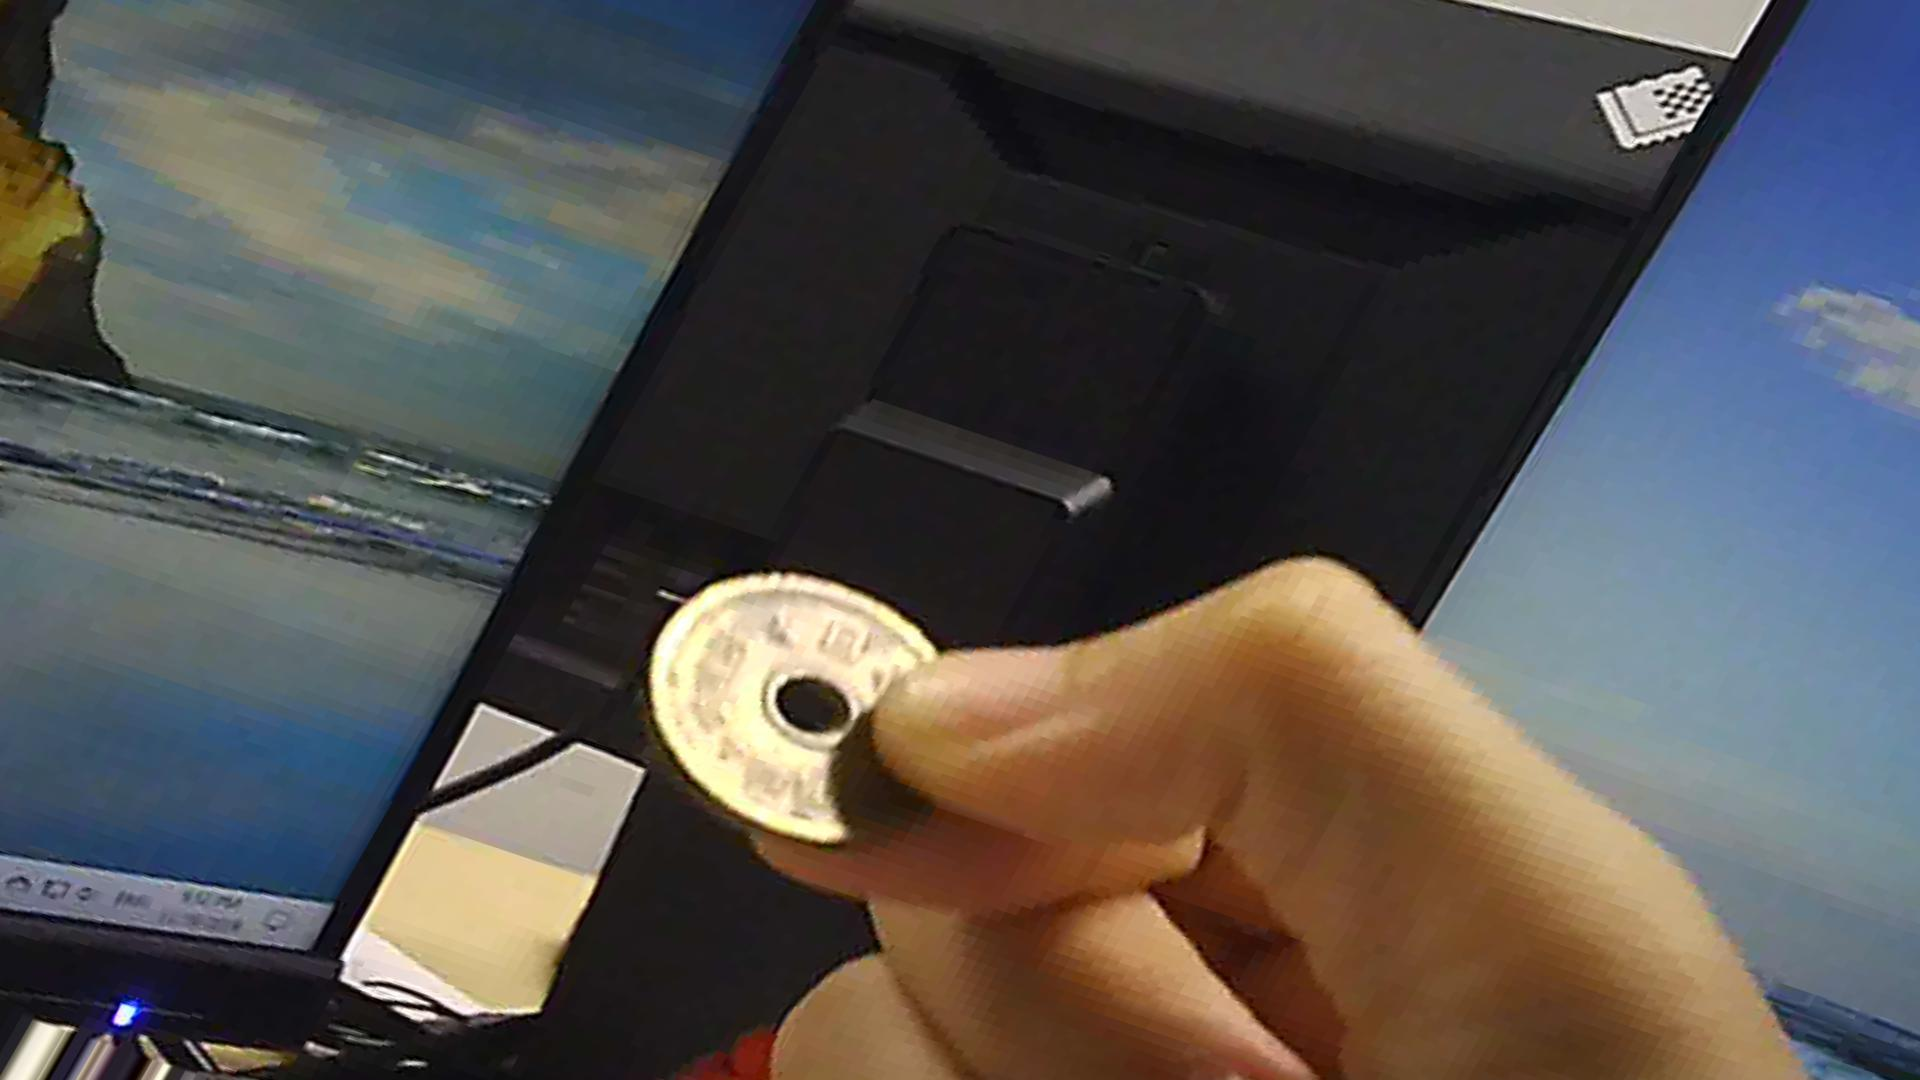5 Yen: (634, 575, 951, 866)
